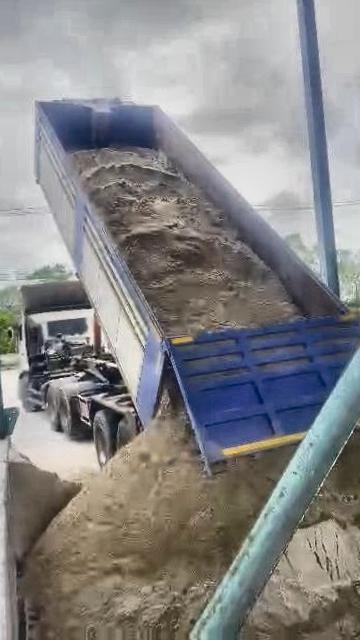sand: (22, 398, 290, 636), (72, 149, 301, 336), (249, 435, 360, 638), (6, 449, 79, 567)
